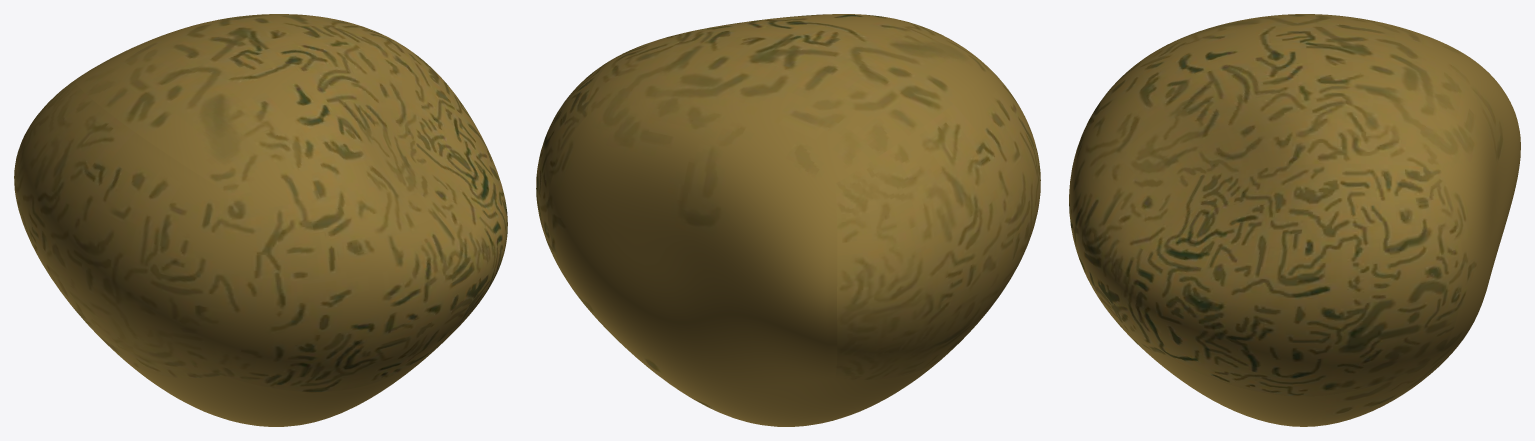
The model's file is coral-brain.glb.
3 views of the same model, side by side, from view 1: azimuth 30°, elevation 25°; view 2: azimuth 150°, elevation 25°; view 3: azimuth 270°, elevation 25° (orthographic). The views are drawn at different scales.
Parts seen in each view (by area): view 1: pCube1_lambert1_0; view 2: pCube1_lambert1_0; view 3: pCube1_lambert1_0.
Boxes of the visible parts, x1=… form: pCube1_lambert1_0: x1=14, y1=14, x2=507, y2=426; pCube1_lambert1_0: x1=536, y1=14, x2=1040, y2=426; pCube1_lambert1_0: x1=1069, y1=14, x2=1520, y2=426.
Size of the model in its own units: 727 by 619 by 697.
Materials: 1 (1 with a texture image).
